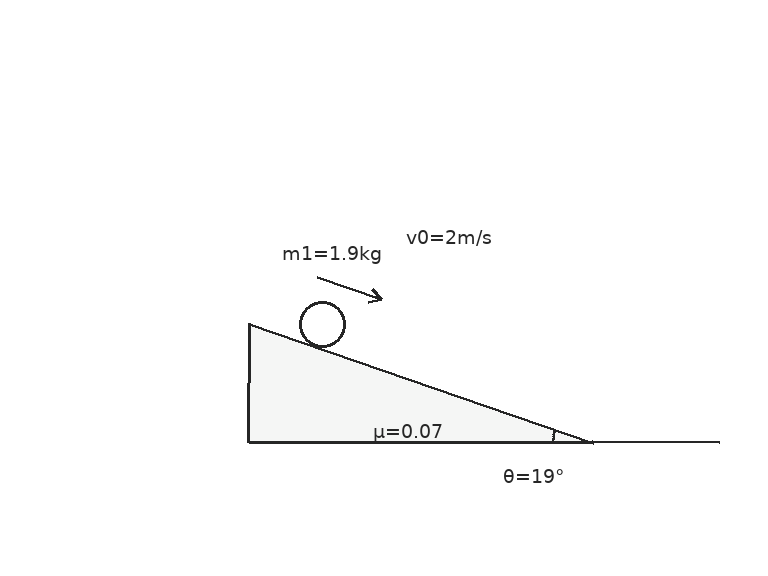ball: (297, 299, 347, 349)
ramp: (247, 321, 595, 444)
